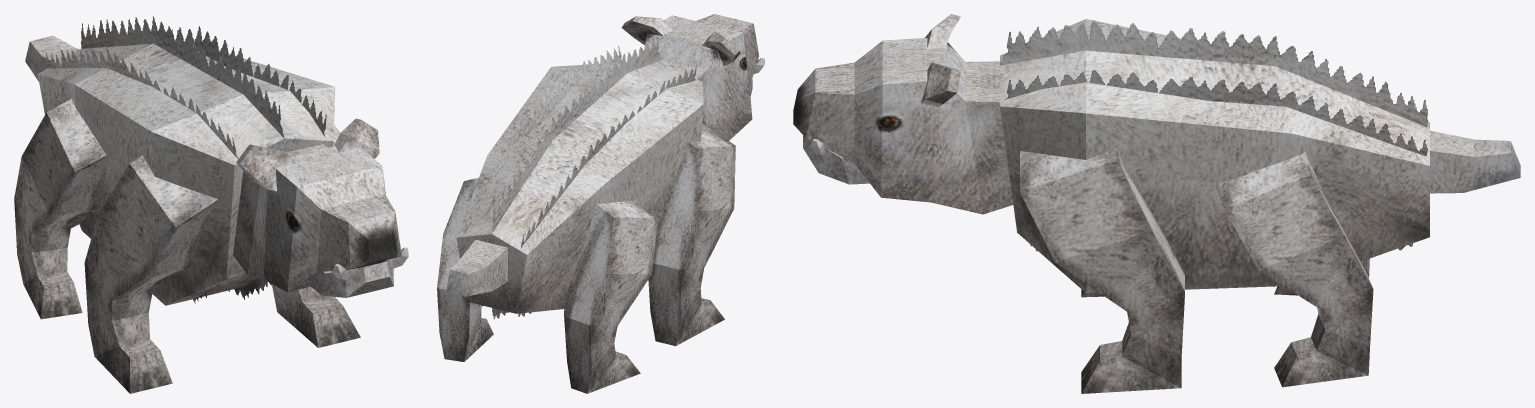
Rendered from maug.obj.
3 views of the same model, side by side, from view 1: azimuth 30°, elevation 25°; view 2: azimuth 150°, elevation 25°; view 3: azimuth 270°, elevation 25° (orthographic). The views are drawn at different scales.
Visible parts, largest first — view 1: Body, Head, LegRightFront, LegRightBack, LegLeftFront, Mouth, Tail; view 2: Body, LegRightFront, LegRightBack, Head, LegLeftBack, Tail; view 3: Body, Head, LegLeftFront, LegLeftBack, Tail, Mouth.
Boxes of the visible parts, bbox=[...] form: Body: bbox=[37, 16, 335, 305]; Head: bbox=[233, 118, 401, 292]; LegRightFront: bbox=[84, 155, 217, 393]; LegRightBack: bbox=[14, 98, 106, 319]; LegLeftFront: bbox=[272, 125, 360, 347]; Mouth: bbox=[309, 247, 408, 297]; Tail: bbox=[25, 35, 79, 81]; Body: bbox=[456, 38, 703, 318]; LegRightFront: bbox=[648, 123, 735, 346]; LegRightBack: bbox=[564, 200, 657, 393]; Head: bbox=[621, 14, 759, 140]; LegLeftBack: bbox=[437, 177, 493, 361]; Tail: bbox=[446, 239, 507, 296]; Body: bbox=[1000, 19, 1429, 292]; Head: bbox=[793, 14, 1013, 214]; LegLeftFront: bbox=[1020, 148, 1184, 393]; LegLeftBack: bbox=[1219, 152, 1373, 387]; Tail: bbox=[1430, 130, 1520, 193]; Mouth: bbox=[803, 135, 869, 184].
Bounding box in the file's own units: 1.63 × 2.03 × 4.23.
